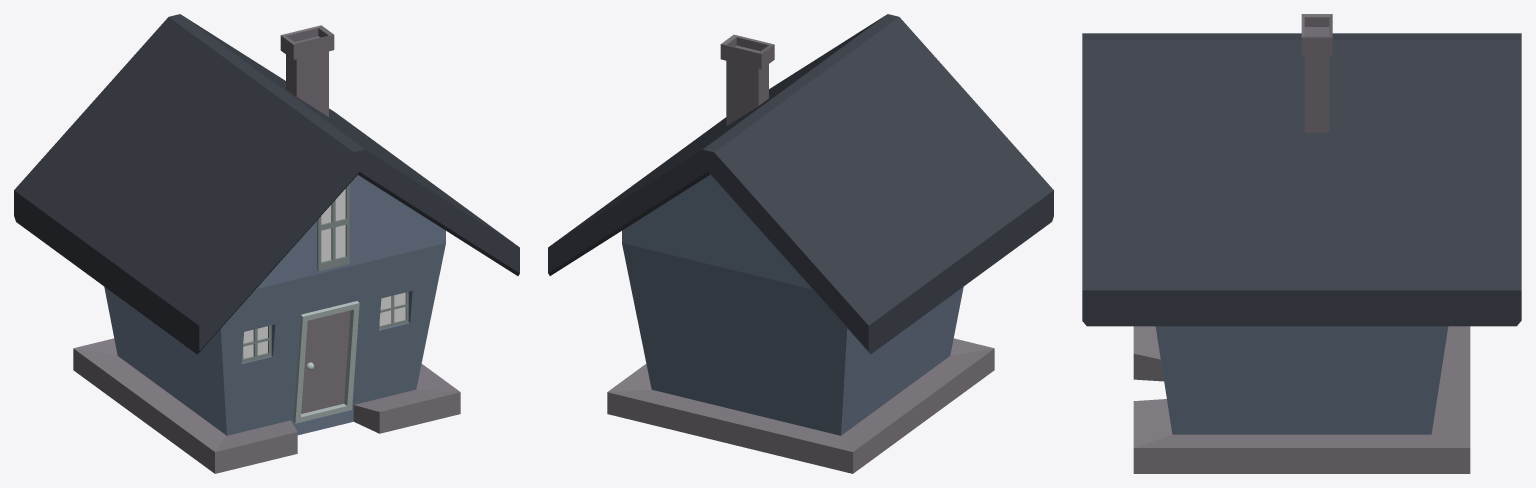
File: HOUSE CHIMNEY (BLUE).fbx
3 views of the same model, side by side, from view 1: azimuth 30°, elevation 25°; view 2: azimuth 150°, elevation 25°; view 3: azimuth 270°, elevation 25° (orthographic). The views are drawn at different scales.
Visible parts, largest first — view 1: Roof, House, Door, Front Windows.002, Front Windows.001, Front Windows; view 2: Roof, House, Front Windows.002; view 3: Roof, House, Front Windows.002.
Part boxes in pixels (x1,y1,x2,y2): Roof: (14,14,519,354); House: (73,175,460,473); Door: (293,301,359,423); Front Windows.002: (280,25,334,116); Front Windows.001: (317,184,349,271); Front Windows: (241,292,408,362); Roof: (548,14,1053,354); House: (607,174,994,473); Front Windows.002: (720,34,774,126); Roof: (1082,33,1521,326); House: (1133,326,1470,473); Front Windows.002: (1301,14,1332,132).
Bounding box in the file's own units: 1130 × 1148 × 1130.
